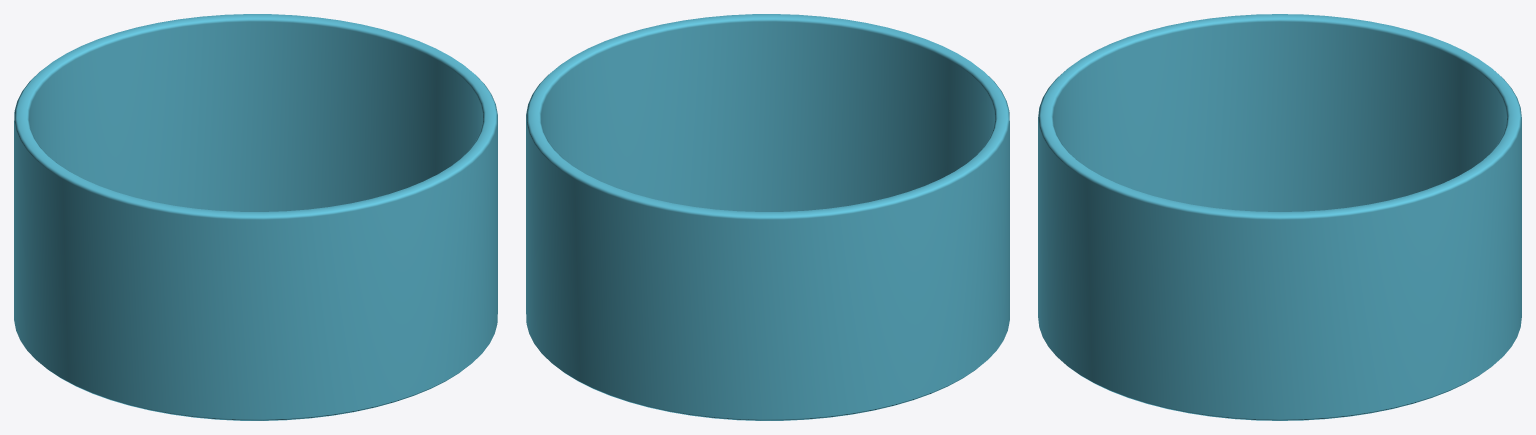
3 views of the same model, side by side, from view 1: azimuth 30°, elevation 25°; view 2: azimuth 150°, elevation 25°; view 3: azimuth 270°, elevation 25° (orthographic).
Parts seen in each view (by area): view 1: seal_body; view 2: seal_body; view 3: seal_body.
Part boxes in pixels (x1,y1,x2,y2): seal_body: (14,14,497,420); seal_body: (526,14,1009,420); seal_body: (1038,14,1521,420).
Bounding box in the file's own units: 0.048 × 0.0225 × 0.048.
